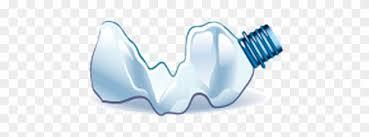plastic: (78, 17, 286, 118)
